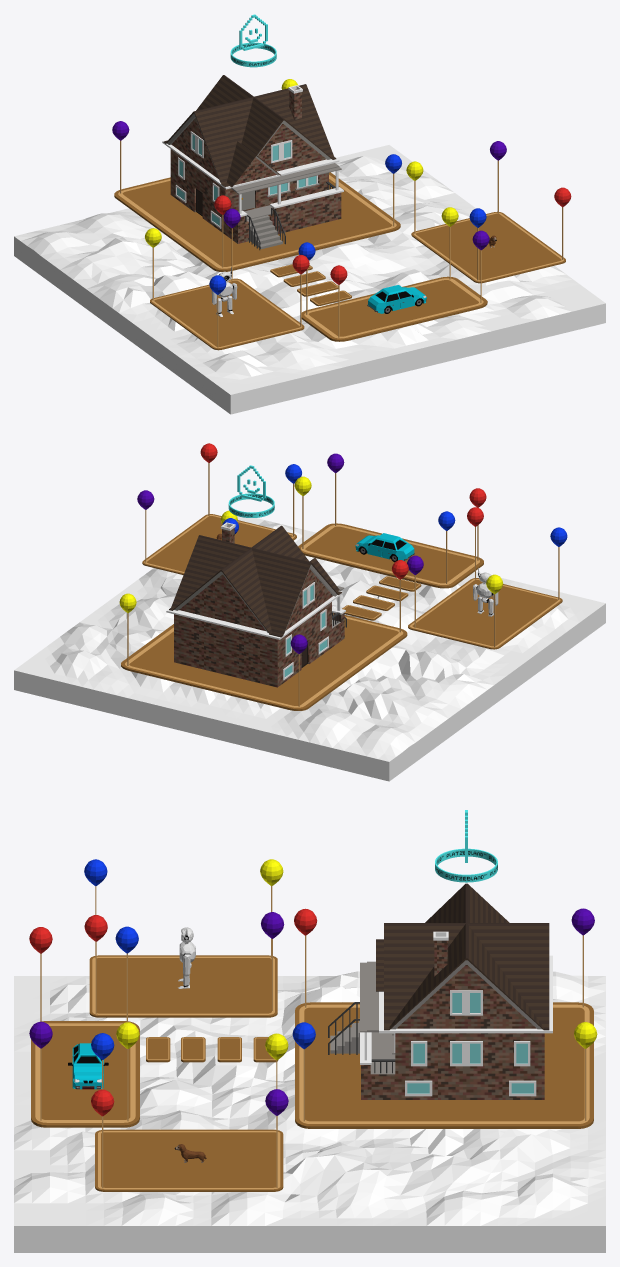
The picture shows the model from 3 angles, top to bottom: view 1: azimuth 30°, elevation 25°; view 2: azimuth 150°, elevation 25°; view 3: azimuth 270°, elevation 25°; orthographic projection. The views are drawn at different scales.
Visible parts, largest first — view 1: Cube.013, Cube.117, VEHICLES_CAR, TYPE_PREMIUM, OBJRANDOM_PLATZEEBOT; view 2: Cube.013, Cube.117, VEHICLES_CAR, TYPE_PREMIUM, OBJRANDOM_PLATZEEBOT; view 3: Cube.013, Cube.117, VEHICLES_CAR, TYPE_PREMIUM, OBJRANDOM_PLATZEEBOT.
Part boxes in pixels (bbox=[...]): Cube.013: bbox=[14, 79, 605, 414]; Cube.117: bbox=[162, 75, 343, 250]; VEHICLES_CAR: bbox=[367, 285, 426, 313]; TYPE_PREMIUM: bbox=[230, 14, 276, 67]; OBJRANDOM_PLATZEEBOT: bbox=[211, 267, 237, 316]; Cube.013: bbox=[14, 443, 605, 781]; Cube.117: bbox=[166, 522, 346, 687]; VEHICLES_CAR: bbox=[355, 533, 414, 562]; TYPE_PREMIUM: bbox=[228, 465, 274, 517]; OBJRANDOM_PLATZEEBOT: bbox=[473, 568, 498, 616]; Cube.013: bbox=[14, 859, 605, 1252]; Cube.117: bbox=[328, 883, 552, 1099]; VEHICLES_CAR: bbox=[68, 1043, 108, 1089]; TYPE_PREMIUM: bbox=[435, 810, 497, 882]; OBJRANDOM_PLATZEEBOT: bbox=[178, 927, 195, 988].
Size of the model in its own units: 4000 by 2595 by 4000.
Materials: 37 (3 with a texture image).
